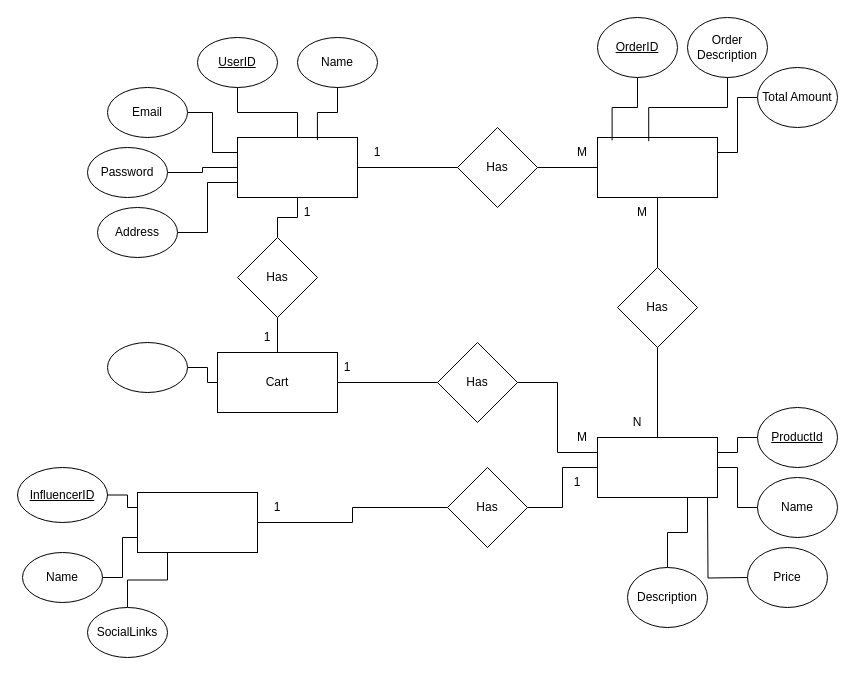
The diagram is 855 pixels wide and 675 high, and some of its shapes have lost their labels. Each missing label, with the centre of its shape:
CartID: [147,367]
Influencer: [197,522]
Order: [657,167]
Product: [657,467]
User: [297,167]
